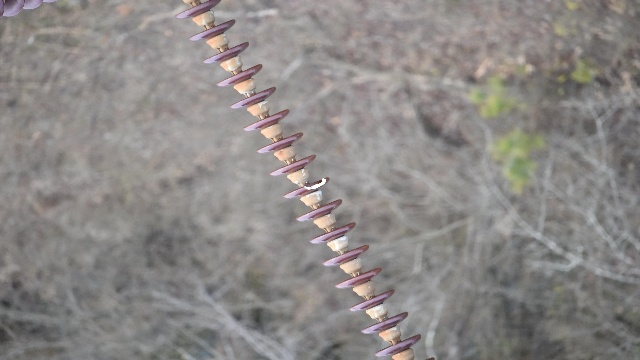broken_local: (303, 176, 329, 192)
insulator_unspecified: (175, 0, 422, 357)
